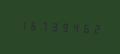four: (67, 20, 76, 34)
nine: (57, 19, 66, 34)
one: (17, 17, 26, 32)
seven: (37, 18, 46, 33)
six: (77, 20, 86, 35), (27, 18, 36, 32)
three: (47, 19, 56, 33)
two: (87, 21, 96, 35)
